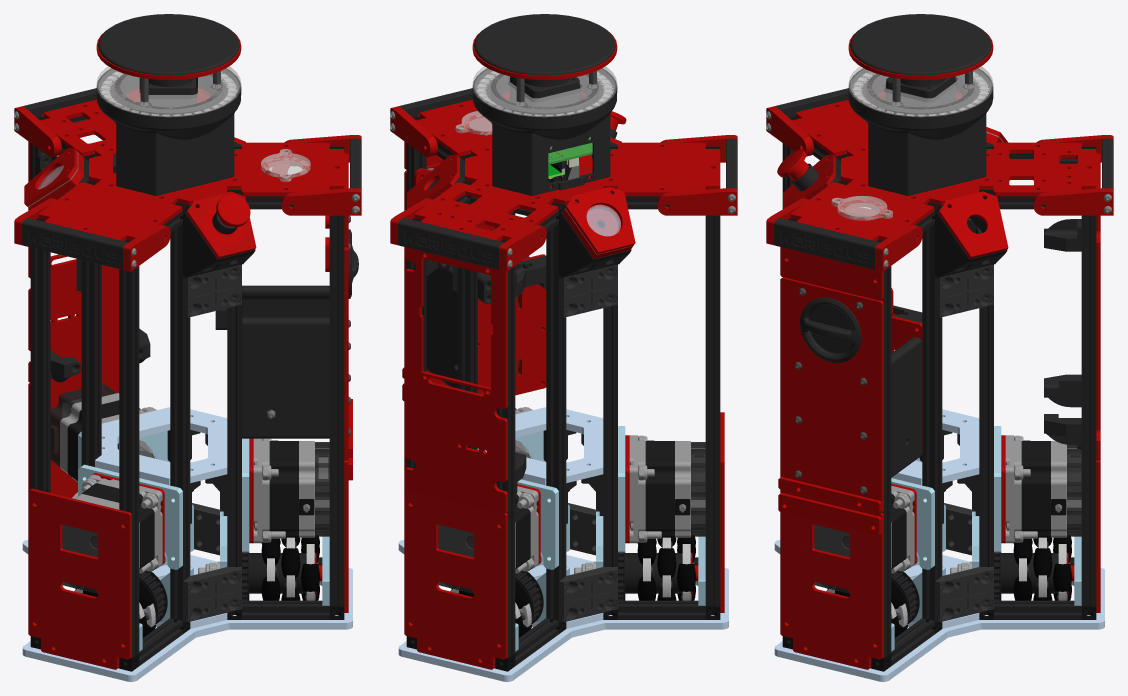
File: robot-base.glb
3 views of the same model, side by side, from view 1: azimuth 30°, elevation 25°; view 2: azimuth 150°, elevation 25°; view 3: azimuth 270°, elevation 25° (orthographic).
Visible parts, largest first — view 1: CarterMoteur_104, SupportBatterie, CoqueLidar2023, SupportCrochet, CarterTopLED, CarterTop_4, CarterSide_1, PlaqueIntermediaire, PlaqueDiffuse2023, Semelle, SupportBeacon, MB_300_254 (+69 smaller); view 2: CarterSide_4, CarterMoteur, CoqueLidar2023, SupportCrochet, CarterTop_4, PlaqueArriere, CarterTopUsb_50, PlaqueDiffuse2023, Semelle, SupportBatterie, PlaqueIntermediaire, Front (+57 smaller); view 3: CarterBatterie, CarterMoteur_70, CoqueLidar2023, SupportCrochet, CarterTopLED, CarterTopUsb_50, PlaqueDiffuse2023, Semelle, SupportBatterie, CarterSup, PoigneeBatterie, PlateInit (+59 smaller).
Part boxes in pixels (x1,y1,x2,y2): CarterMoteur_104: (28, 490, 129, 669); SupportBatterie: (242, 285, 329, 438); CoqueLidar2023: (96, 68, 241, 195); SupportCrochet: (98, 14, 239, 75); CarterTopLED: (242, 142, 344, 196); CarterTop_4: (39, 182, 181, 240); CarterSide_1: (50, 255, 119, 379); PlaqueIntermediaire: (95, 407, 227, 485); PlaqueDiffuse2023: (96, 66, 241, 117); Semelle: (22, 540, 352, 681); SupportBeacon: (89, 145, 241, 204); MB_300_254: (339, 215, 344, 606); CarterSide_4: (404, 247, 505, 513); CarterMoteur: (404, 490, 507, 669); CoqueLidar2023: (472, 68, 617, 195); SupportCrochet: (474, 14, 615, 75); CarterTop_4: (618, 142, 720, 192); PlaqueArriere: (477, 254, 546, 395); CarterTopUsb_50: (415, 182, 557, 240); PlaqueDiffuse2023: (472, 66, 617, 117); Semelle: (398, 540, 728, 681); SupportBatterie: (426, 230, 542, 388); PlaqueIntermediaire: (477, 407, 603, 485); Front: (398, 217, 504, 269); CarterBatterie: (780, 277, 883, 513); CarterMoteur_70: (780, 490, 881, 669); CoqueLidar2023: (848, 68, 993, 195); SupportCrochet: (850, 14, 991, 75); CarterTopLED: (790, 182, 934, 240); CarterTopUsb_50: (994, 142, 1096, 192); PlaqueDiffuse2023: (848, 66, 993, 117); Semelle: (774, 540, 1104, 681); SupportBatterie: (891, 337, 921, 477); CarterSup: (780, 247, 883, 300); PoigneeBatterie: (800, 297, 861, 362); PlateInit: (938, 191, 1008, 258).
Size of the model in its own units: 0.2746 by 0.4304 by 0.2379.
